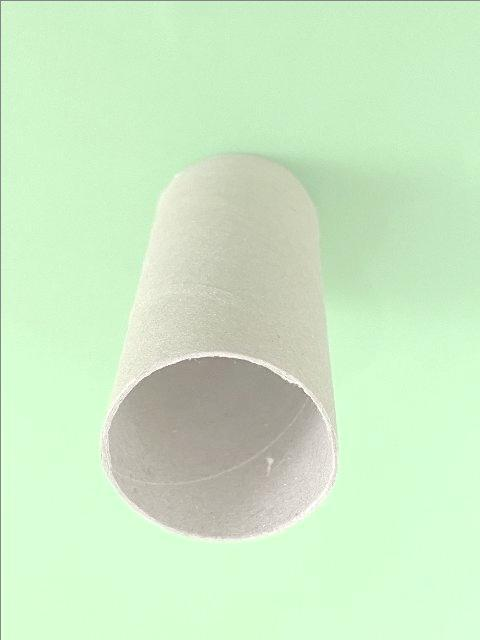tissueroll: (98, 151, 340, 544)
